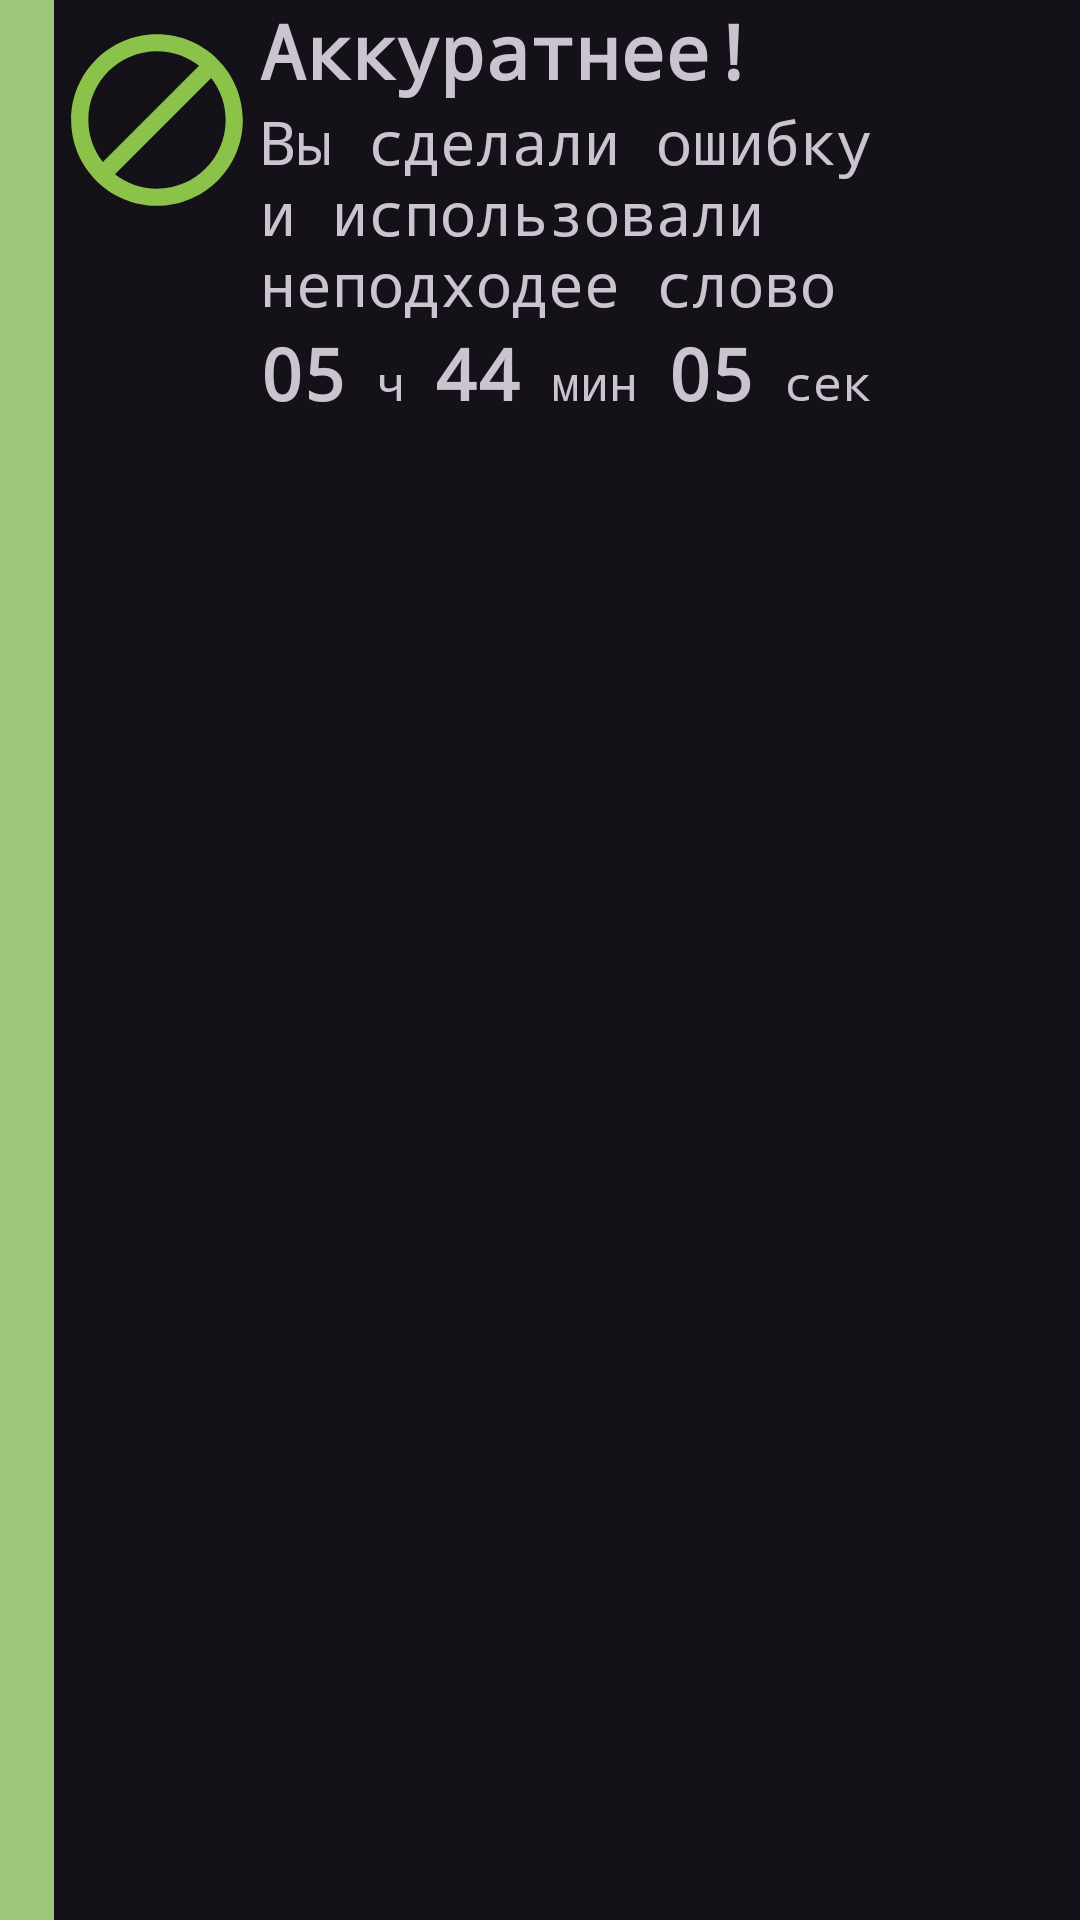

Locate icon controls on the screen. Image size 1080px×1920px, boxes as (x1, y1, x2, y2).
block: (71, 34, 243, 206)
